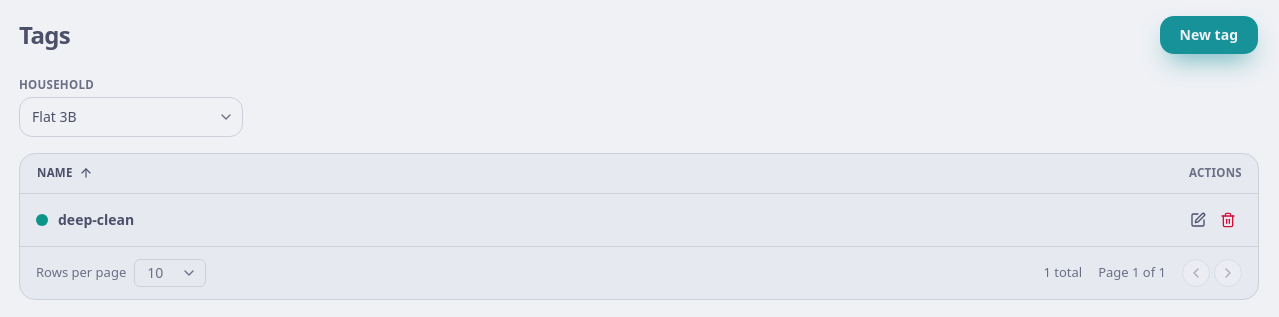
Test: Tags › lets a multi-household user pick the household and pushes it into the query
Expected: the text "deep-clean" is shown, [36,210,134,229]
Click the dropdown named "Household" at {"x": 131, "y": 116}, box [19,96,243,136]
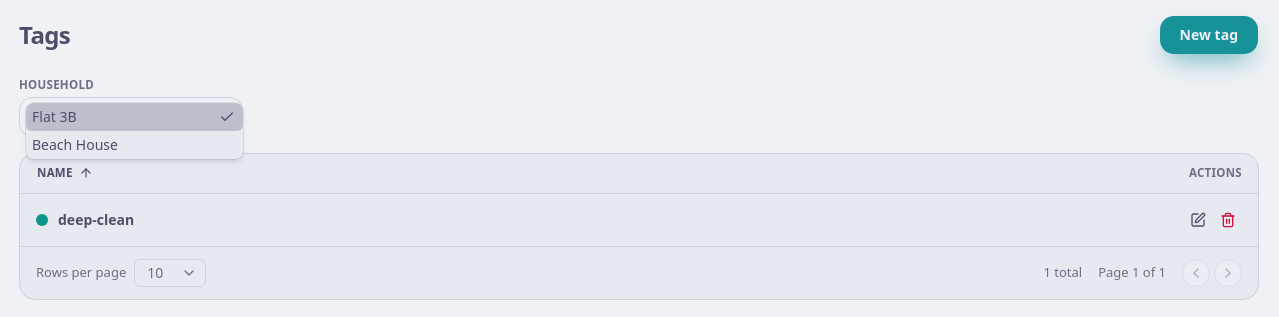
Click the option "Beach House" at {"x": 75, "y": 144}, box [32,134,118,154]
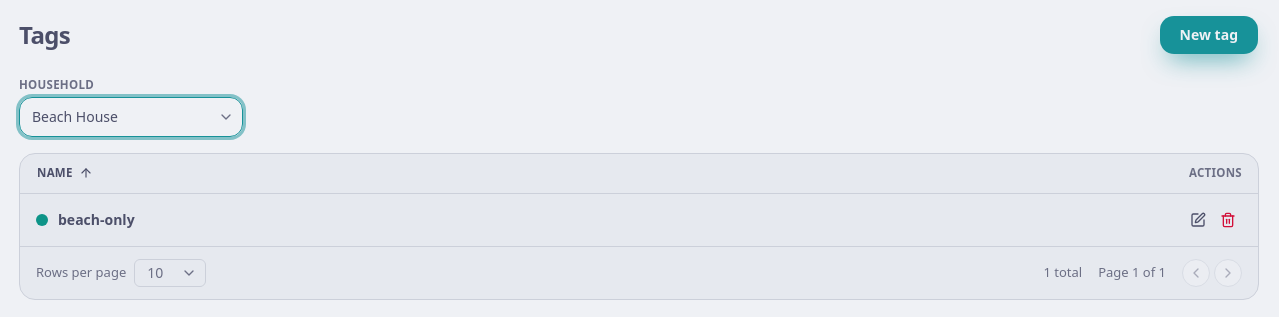
Result: the text "beach-only" is shown at [36,210,135,229]
